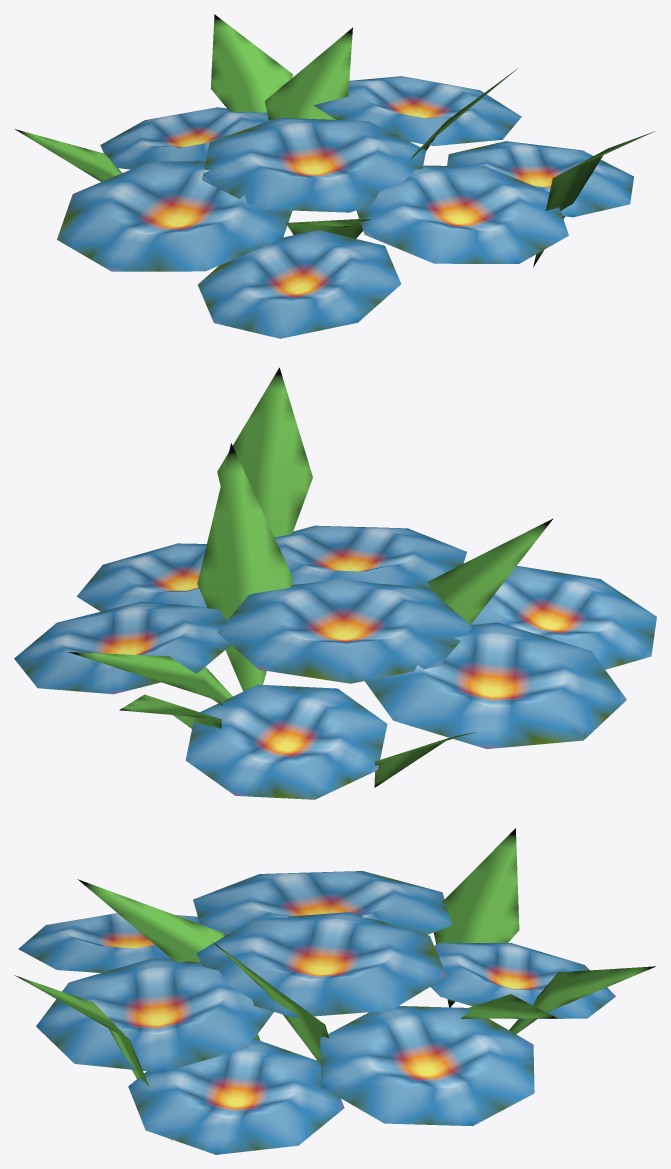
File: deco_flowerBunch_blue.FBX
The picture shows the model from 3 angles, top to bottom: view 1: azimuth 30°, elevation 25°; view 2: azimuth 150°, elevation 25°; view 3: azimuth 270°, elevation 25°; orthographic projection. The views are drawn at different scales.
Visible parts, largest first — view 1: deco_flowerBunch_blue; view 2: deco_flowerBunch_blue; view 3: deco_flowerBunch_blue.
Boxes of the visible parts, x1,y1,x2,y2 form: deco_flowerBunch_blue: (15,14,654,338); deco_flowerBunch_blue: (14,367,656,799); deco_flowerBunch_blue: (14,828,655,1154).
Bounding box in the file's own units: 1.11 × 0.3886 × 1.12.
Materials: 1 (1 with a texture image).
